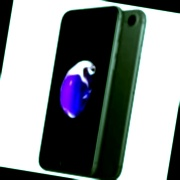iphone: (55, 8, 142, 180)
